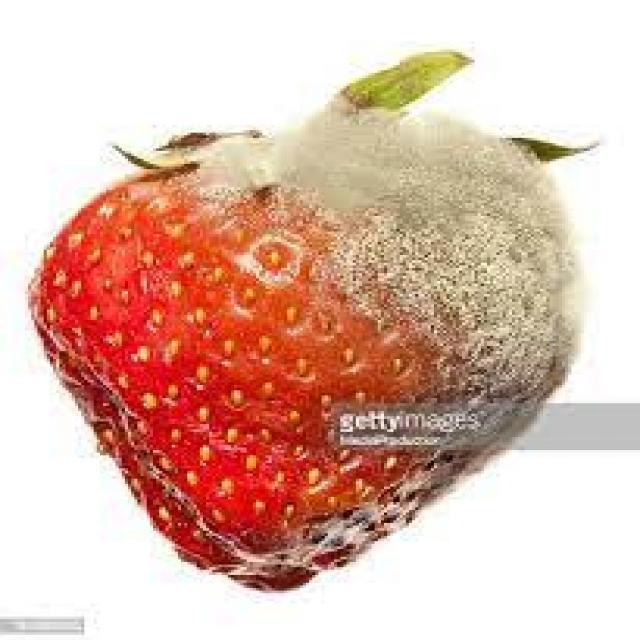Moho gris: (21, 85, 583, 578)
